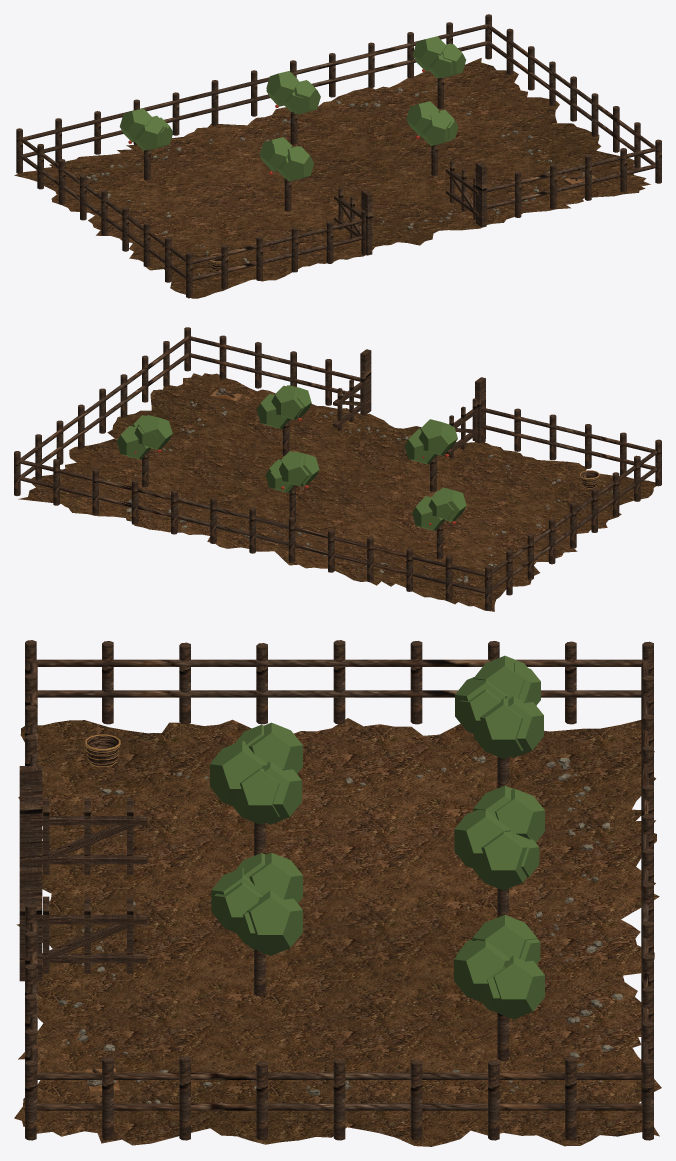
The model's file is orchard.glb.
The picture shows the model from 3 angles, top to bottom: view 1: azimuth 30°, elevation 25°; view 2: azimuth 150°, elevation 25°; view 3: azimuth 270°, elevation 25°; orthographic projection. The views are drawn at different scales.
Parts seen in each view (by area): view 1: part_0, part_2, part_3, part_1; view 2: part_0, part_2, part_3, part_1; view 3: part_0, part_2, part_3, part_1, part_5.
Boxes of the visible parts, <box> form: part_0: <box>14,58,650,298</box>; part_2: <box>16,14,661,298</box>; part_3: <box>119,36,465,181</box>; part_1: <box>86,83,591,275</box>; part_0: <box>18,373,656,611</box>; part_2: <box>14,327,661,610</box>; part_3: <box>117,385,466,530</box>; part_1: <box>101,401,612,582</box>; part_0: <box>14,718,661,1146</box>; part_2: <box>19,640,653,1140</box>; part_3: <box>210,655,544,1019</box>; part_1: <box>58,756,623,1103</box>; part_5: <box>86,735,118,766</box>.
Size of the model in its own units: 9.89 by 1.45 by 6.31.
10 materials, 6 textured.
